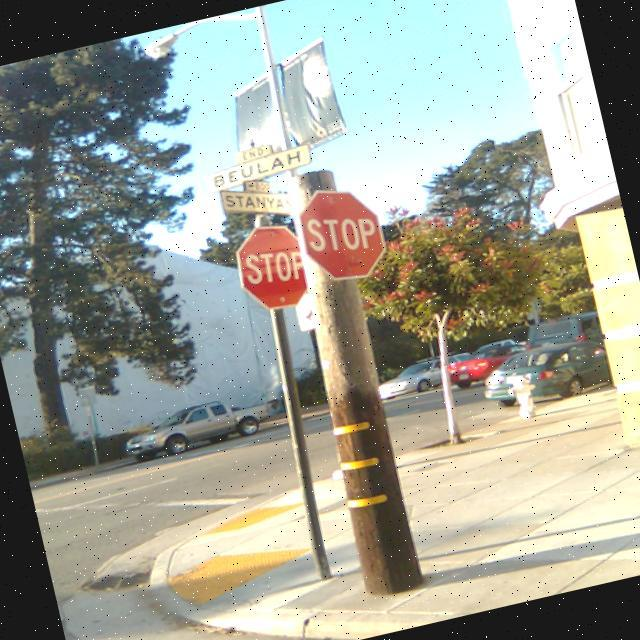fire_hydrant: (508, 372, 542, 422)
